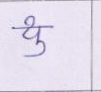u_matra: (24, 41, 48, 58)
